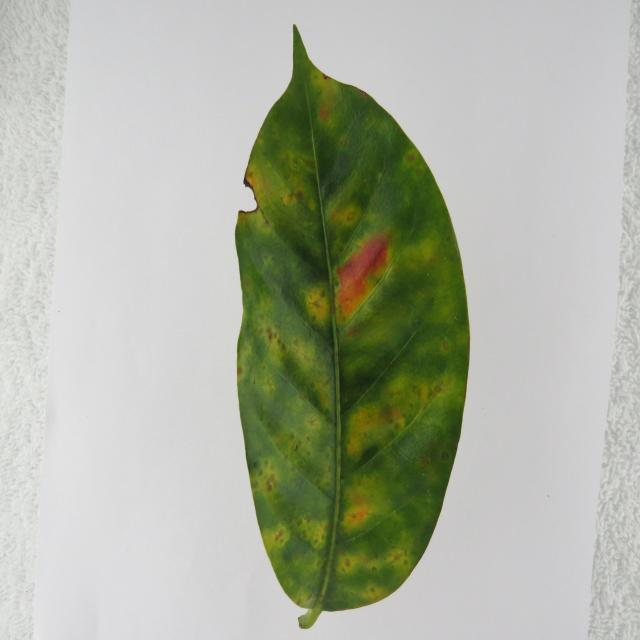DeficienciaNutricional-Fosforo: (235, 27, 470, 628)
